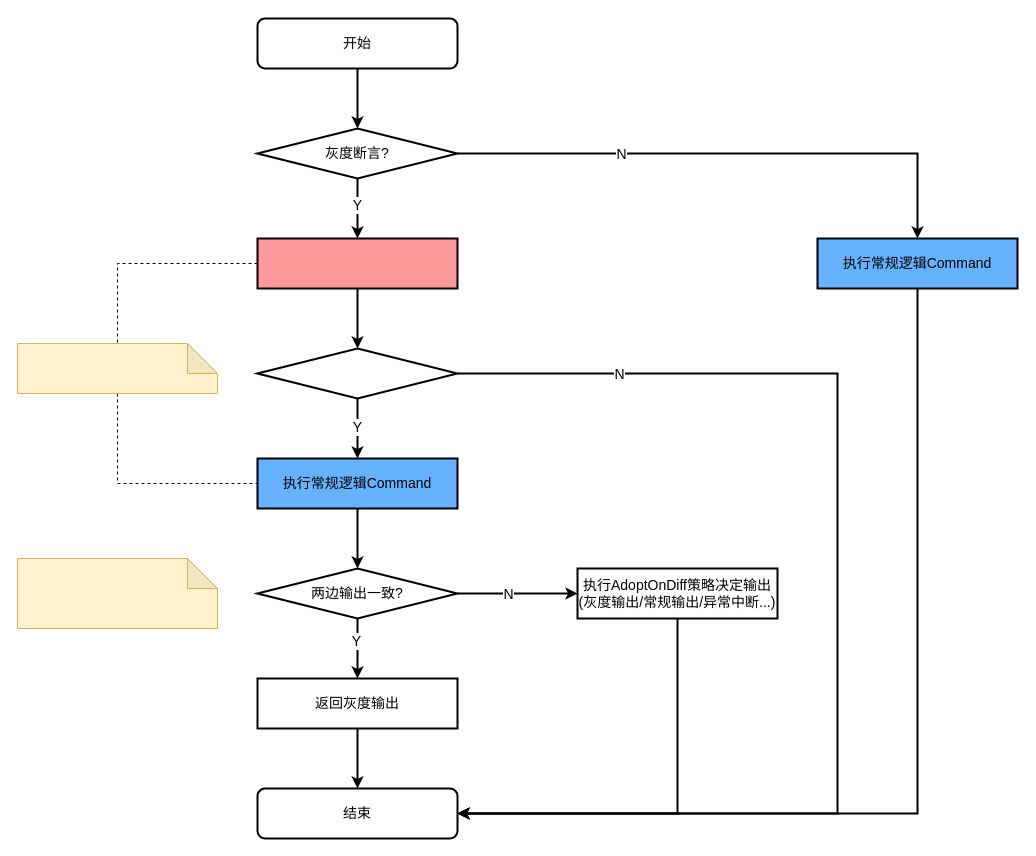
This 1036x856 diagram has some shape labels left out. The centre of each missing label's shape, as x and y in pixels:
1. 额外执行常规逻辑Command 对照两种输出, 确定最终采纳 2. 输出可能有异常或正常返回: pixel 117 593
try...catch 执行Cmd失败不影响流程: pixel 117 368
开启对照?: pixel 357 373
执行灰度逻辑Command: pixel 357 263
